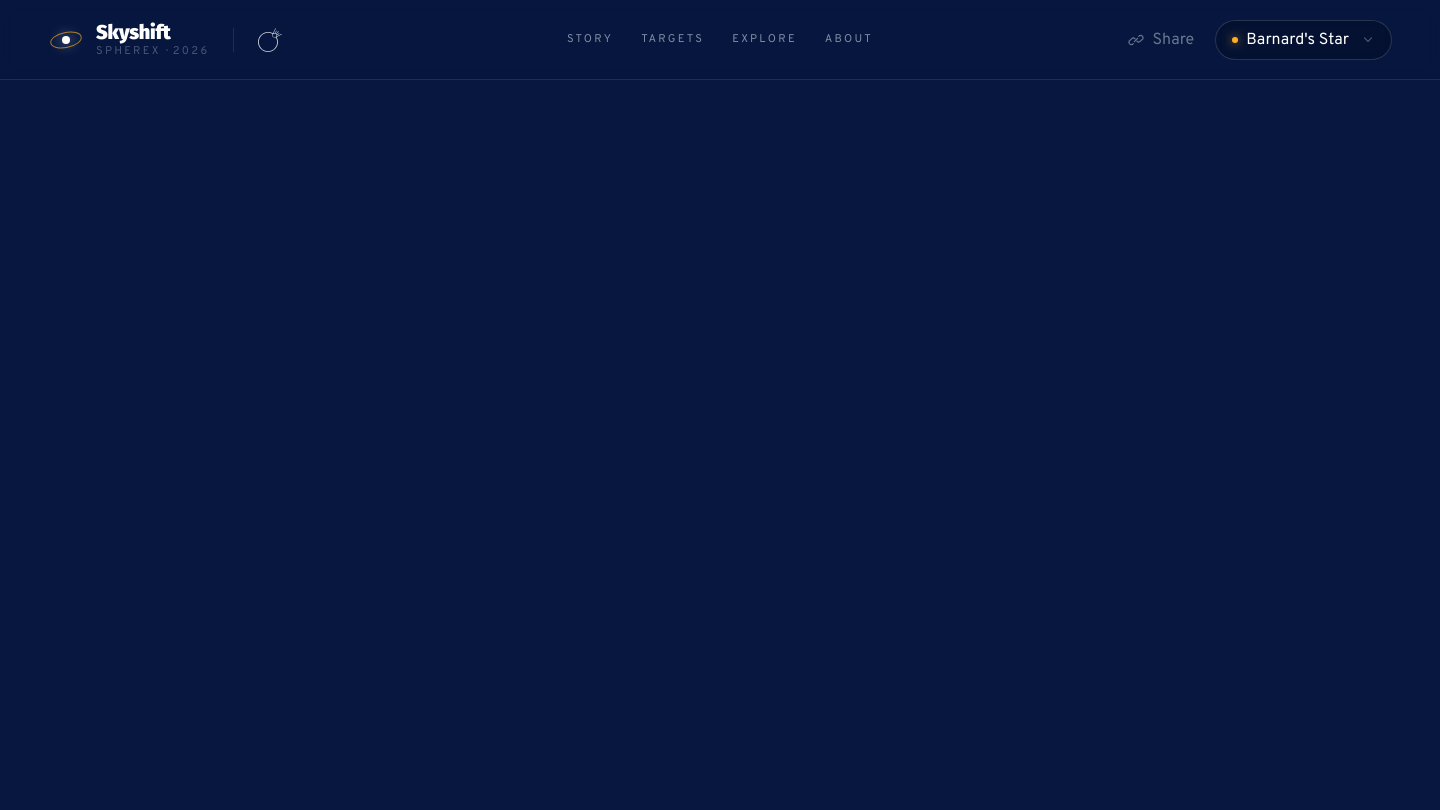
NavBar › opens an expandable search panel containing the full target gallery, not just the 3 curated chips
The width and height of the screenshot is (1440, 810).
Click the button with aria-label "search".
click(765, 40)  # box [732,34,797,45]
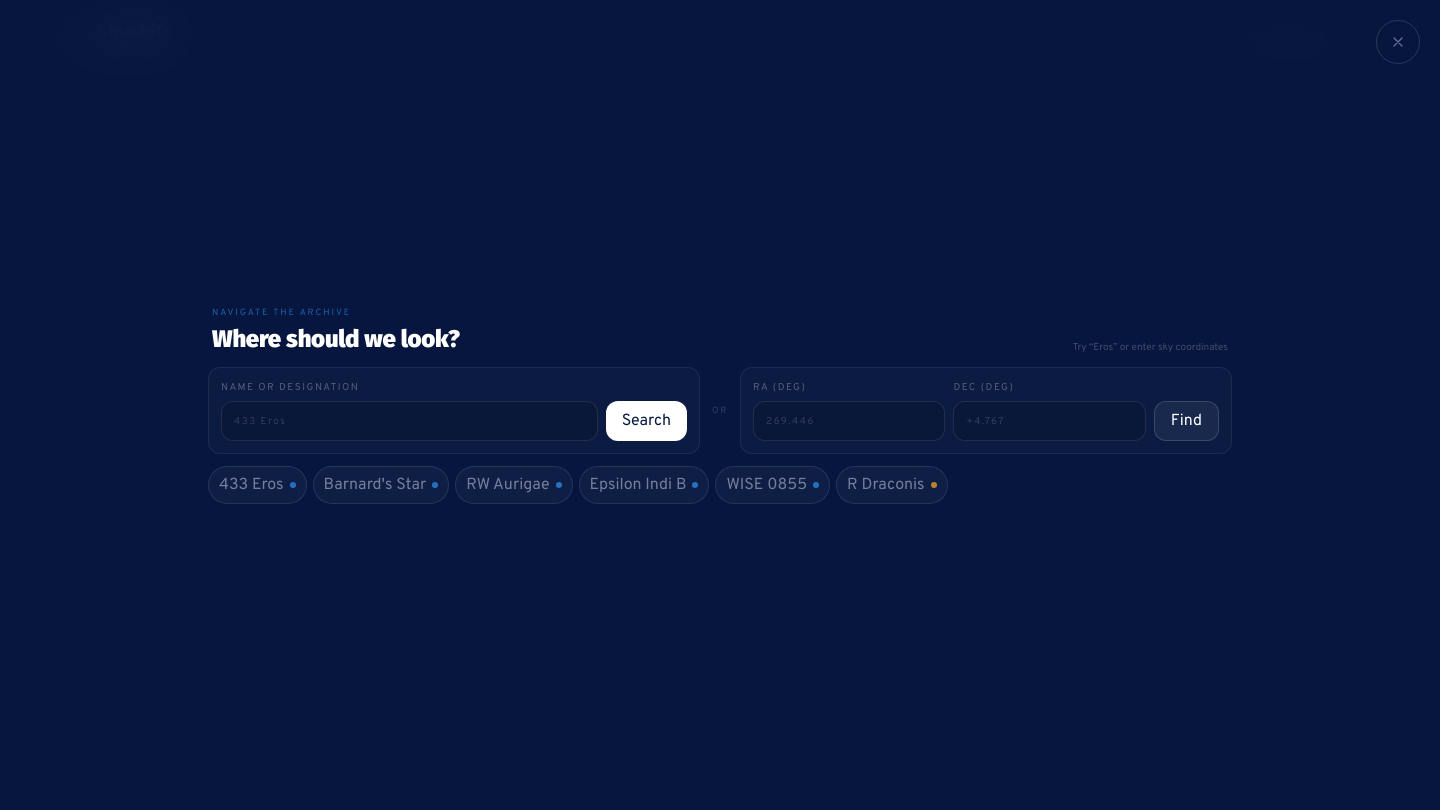
Now the button "R Draconis" is shown, box [836,466,948,504]
